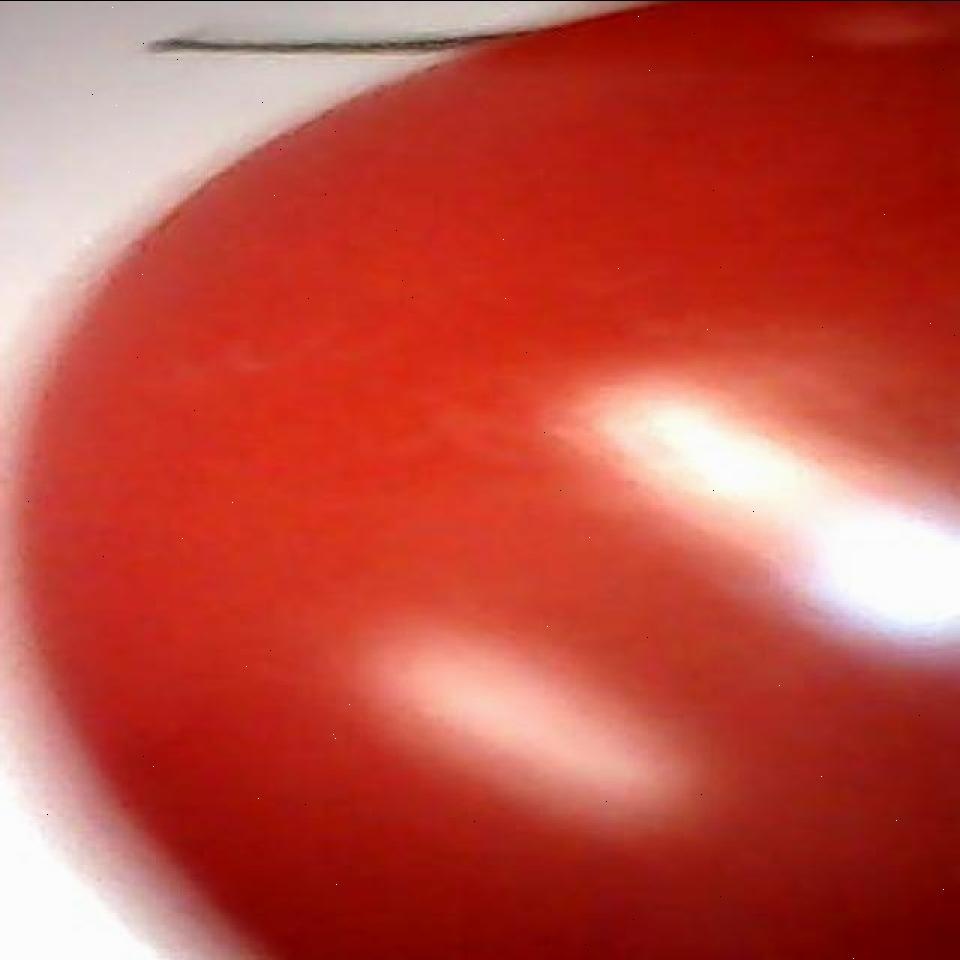Healthy: (22, 0, 960, 944)
